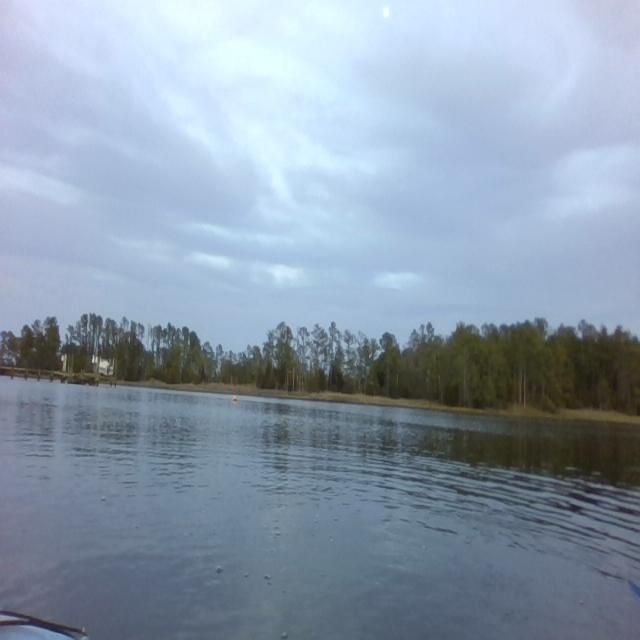Buoy: (232, 392, 238, 402)
